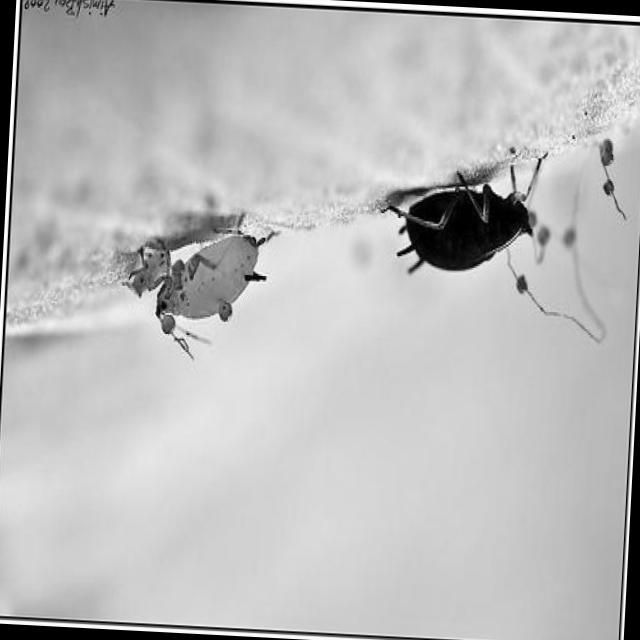Aphids: (336, 118, 598, 384), (124, 184, 292, 356)
